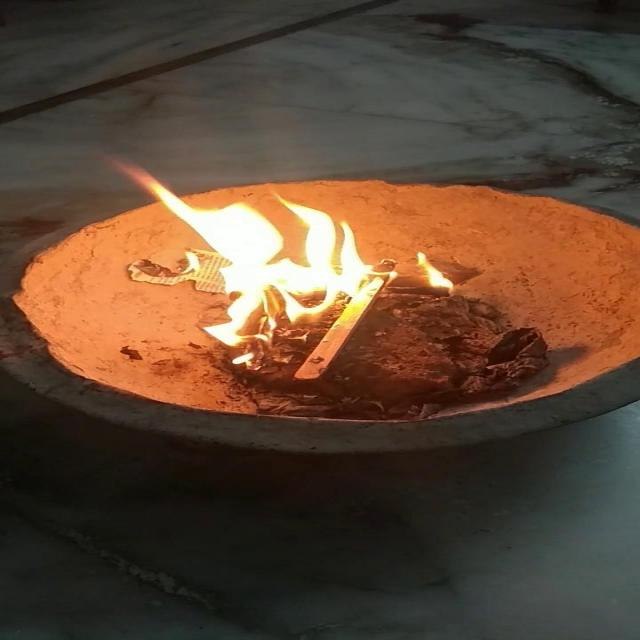fire: (95, 141, 457, 352)
